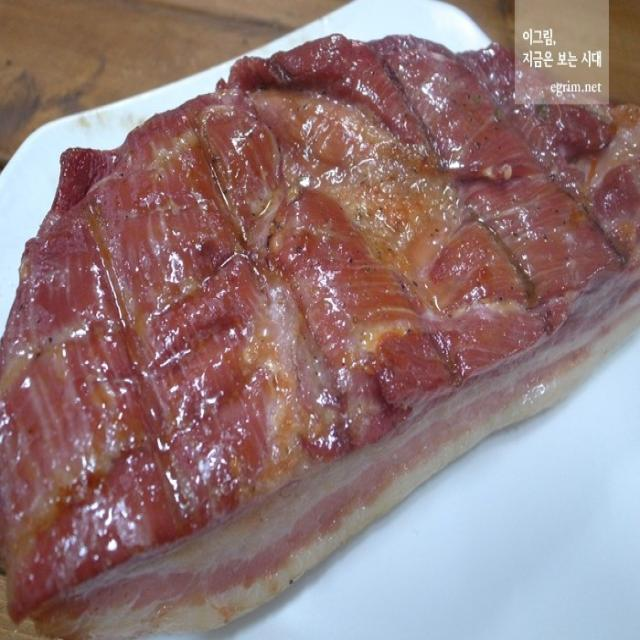bacon: (30, 268, 640, 638)
